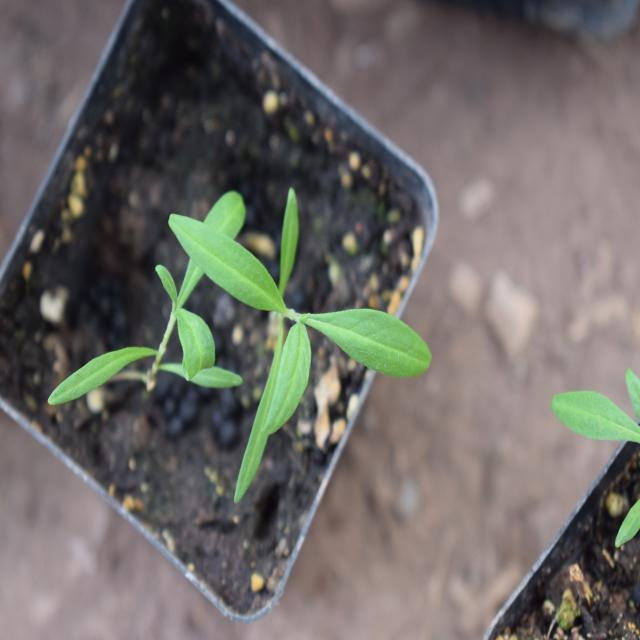white_smart_weed: (186, 166, 432, 484)
